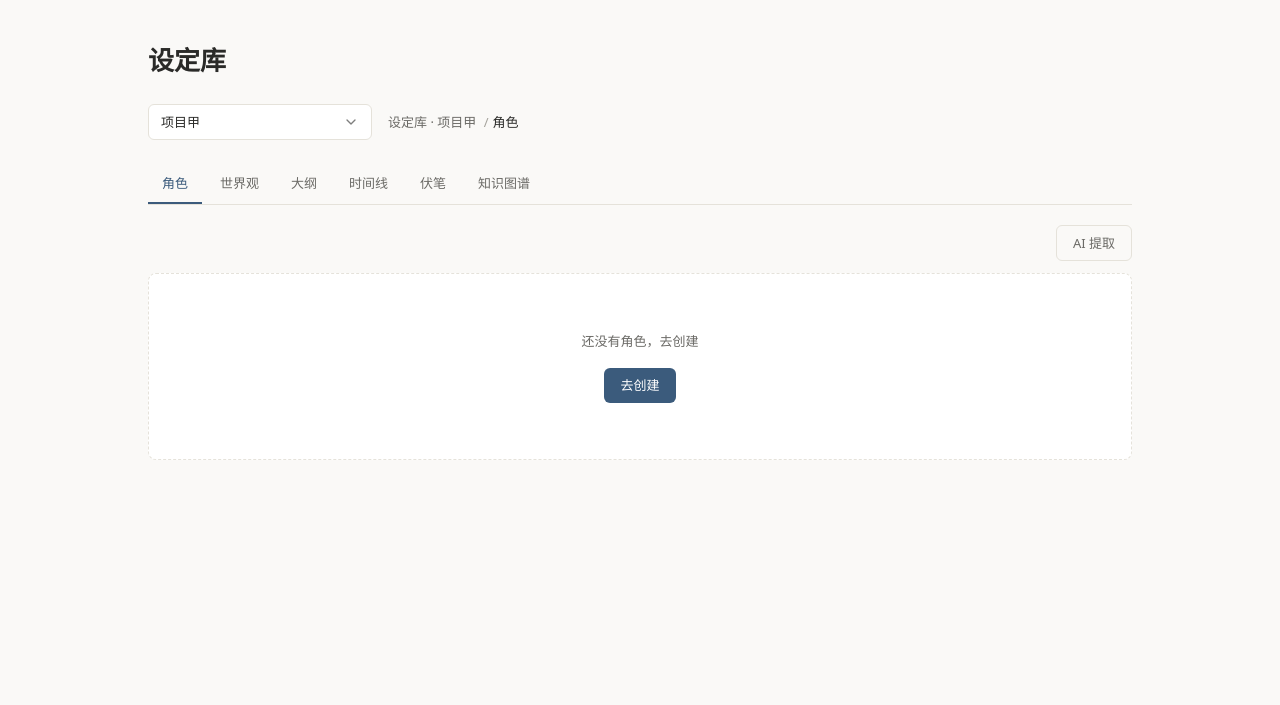
Scenario: #1529-A 实体多选：默认全选 + 未勾选统一灰显（不摘除） › N19① 再点一次 → 恢复（勾回即正常彩色）
The image size is (1280, 705).
Click the tab "知识图谱".
click(504, 184)  # box left=464, top=164, right=544, bottom=204
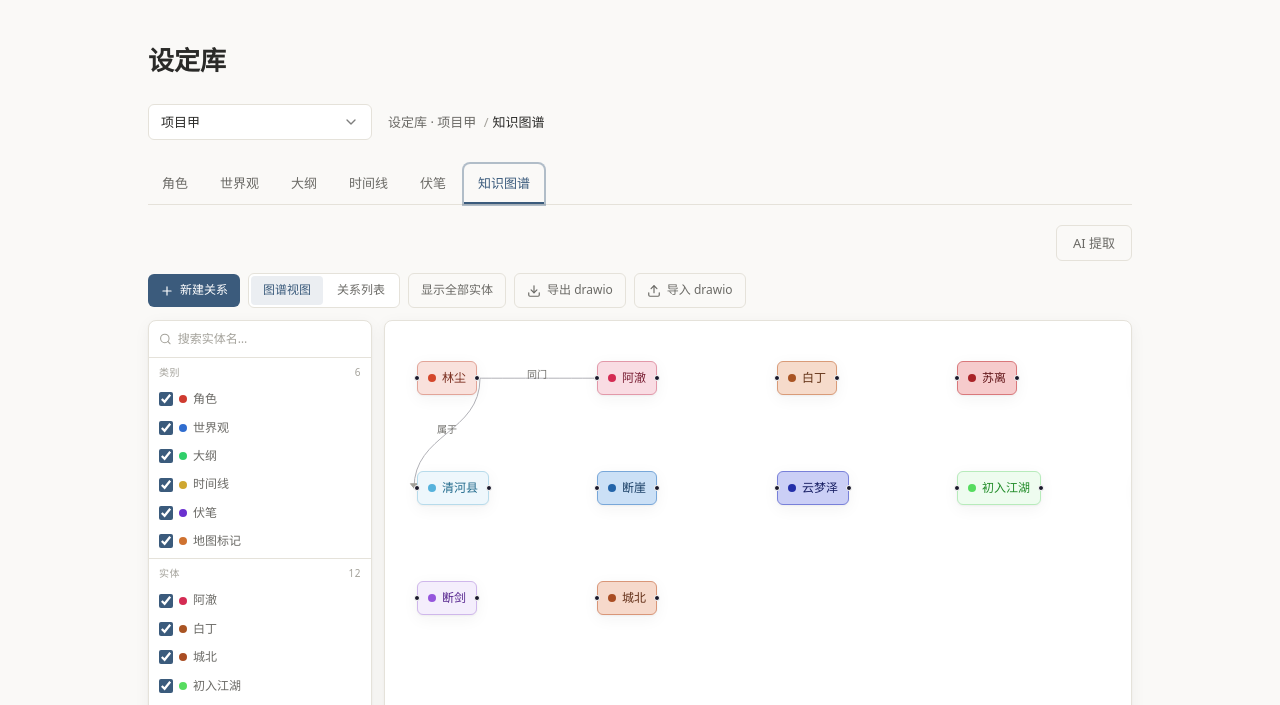
Expected: the element with test id "library-kg-node-character-c1" is shown, left=417, top=361, right=477, bottom=395
Click the label "阿澈".
click(188, 600)  # box left=159, top=591, right=217, bottom=608
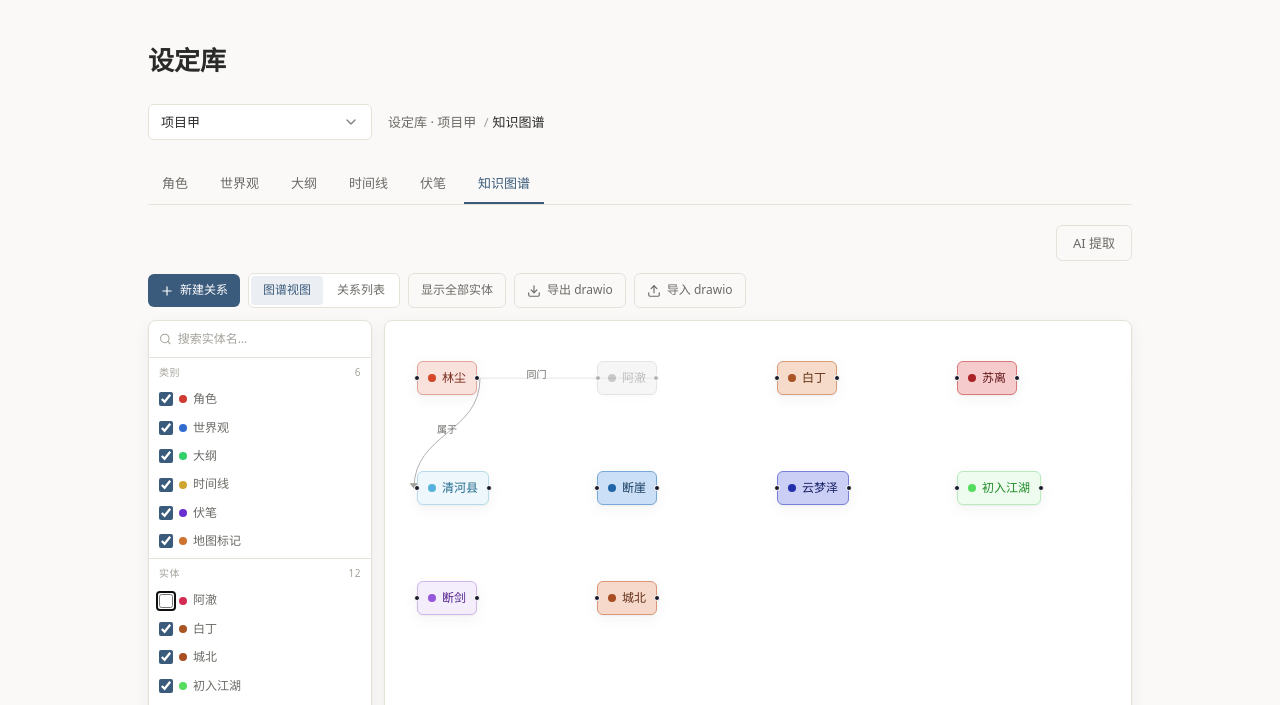
Click the label "阿澈".
click(188, 600)  # box left=159, top=591, right=217, bottom=608
(page scrolled)
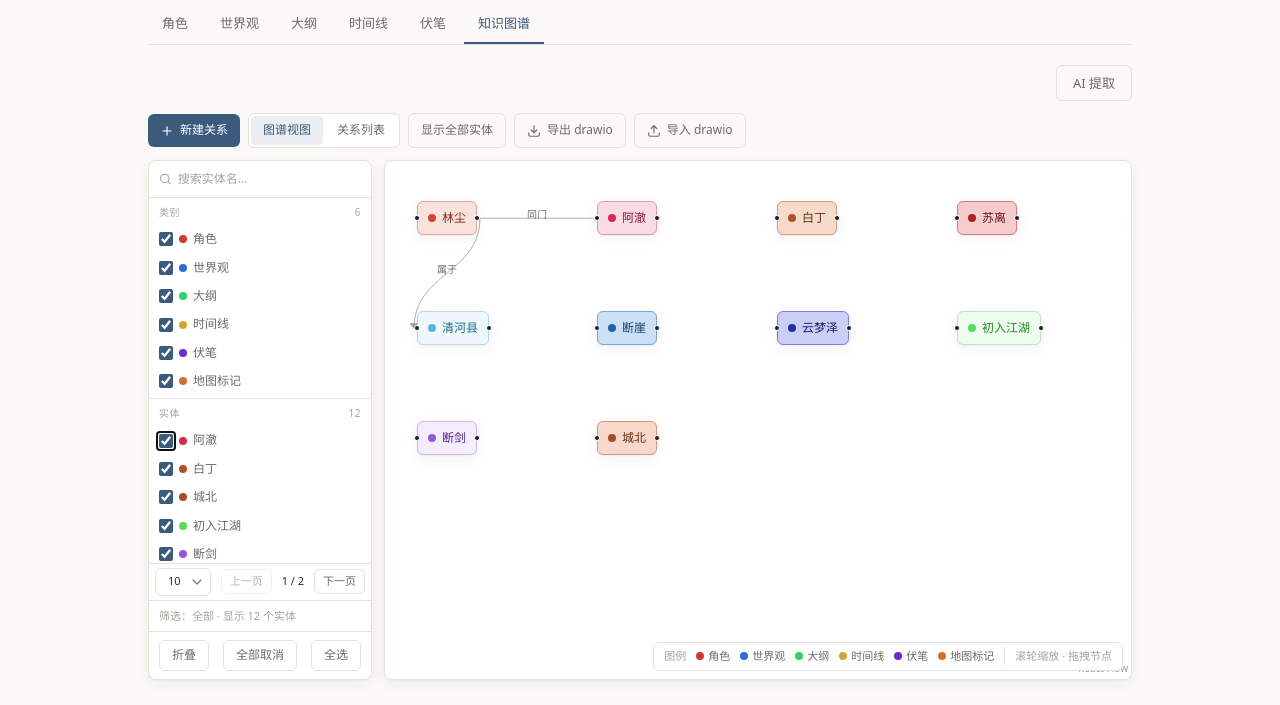
Expected: the text with test id "library-kg-filter-summary" shows "显示 12 个实体", left=159, top=608, right=296, bottom=623
